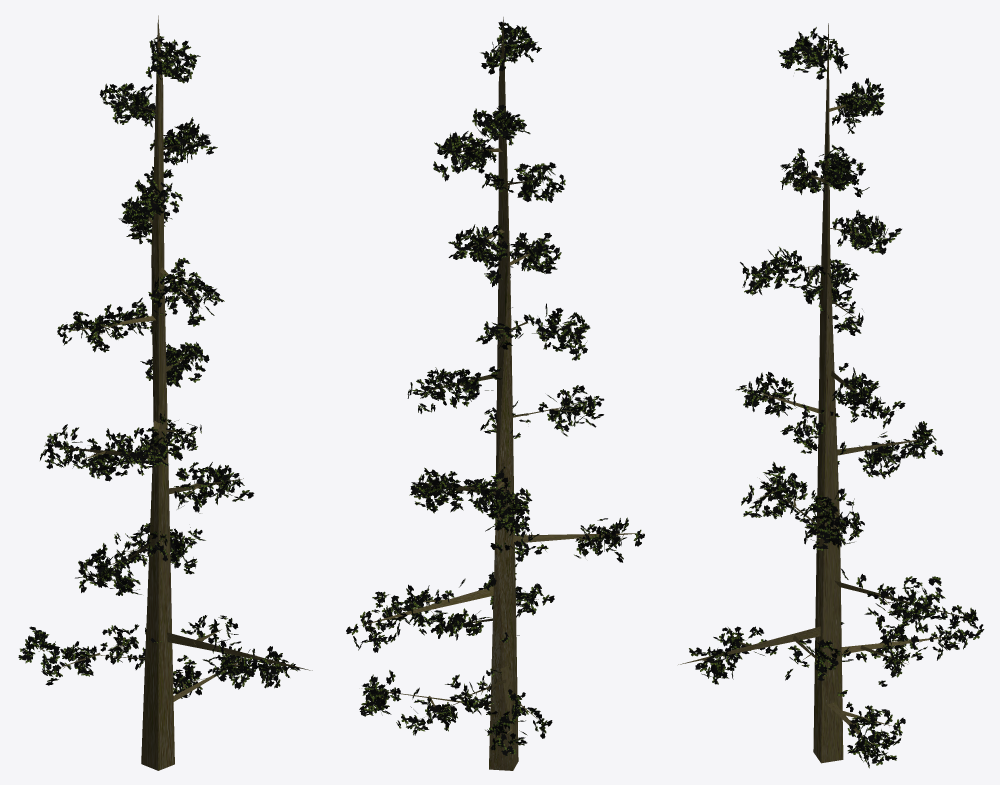
Rendered from spruce_conifer_v03_LOD2.fbx.
3 renders of one model, left to right at view 1: azimuth 30°, elevation 25°; view 2: azimuth 150°, elevation 25°; view 3: azimuth 270°, elevation 25°, orthographic.
Visible parts, largest first — view 1: spruce_conifer_v03_LOD2; view 2: spruce_conifer_v03_LOD2; view 3: spruce_conifer_v03_LOD2.
Part boxes in pixels (box(x1,y1,x2,y2)): spruce_conifer_v03_LOD2: box(18, 15, 312, 770); spruce_conifer_v03_LOD2: box(346, 17, 644, 770); spruce_conifer_v03_LOD2: box(678, 23, 984, 768).
Size of the model in its own units: 1079 by 1208 by 3197.
Materials: 2 (2 with a texture image).
